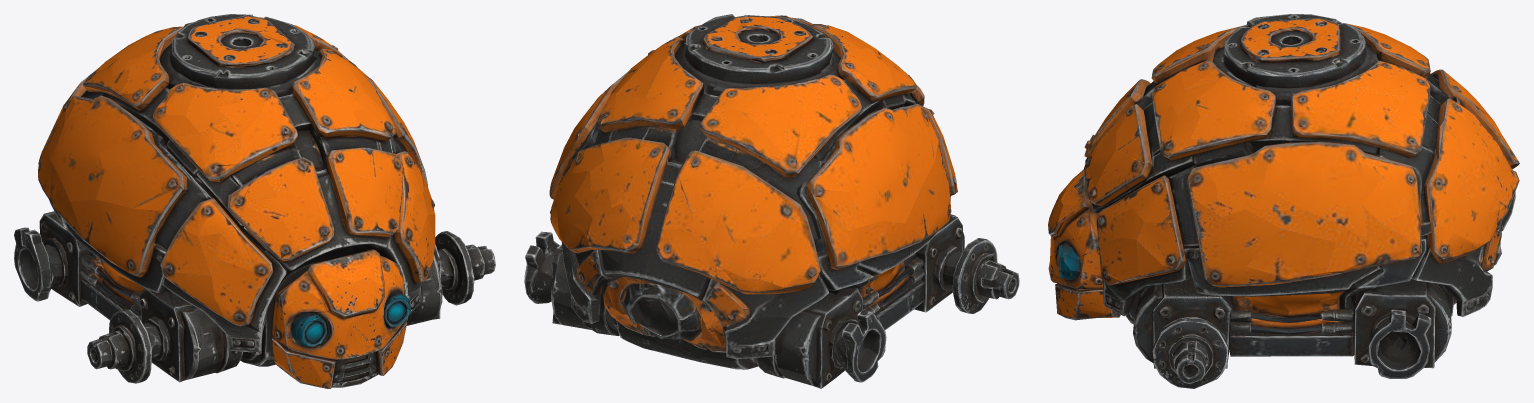
The model's file is scarab.glb.
3 renders of one model, left to right at view 1: azimuth 30°, elevation 25°; view 2: azimuth 150°, elevation 25°; view 3: azimuth 270°, elevation 25°, orthographic. The views are drawn at different scales.
Visible parts, largest first — view 1: Mesh_0; view 2: Mesh_0; view 3: Mesh_0.
Part boxes in pixels (x1=…): Mesh_0: x1=14, y1=14, x2=495, y2=388; Mesh_0: x1=524, y1=14, x2=1019, y2=388; Mesh_0: x1=1048, y1=14, x2=1519, y2=388.
Size of the model in its own units: 1.08 by 0.7 by 1.1.
Materials: 1 (1 with a texture image).
